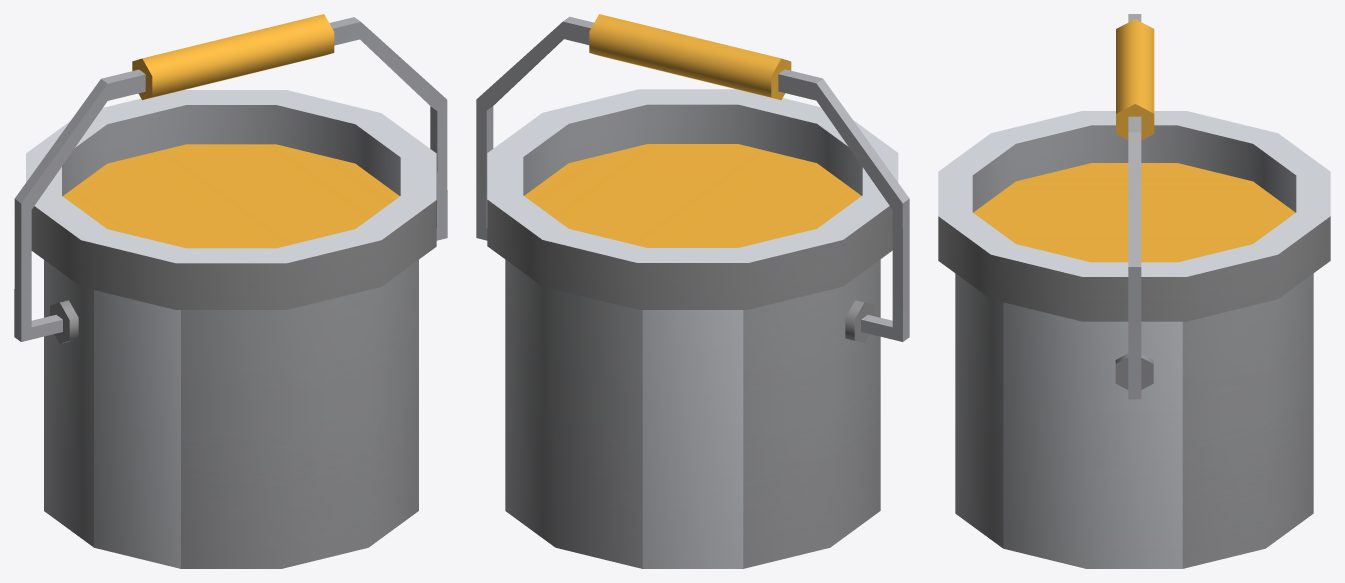
The model's file is SM_Bucket03.fbx.
The picture shows the model from 3 angles, left to right: view 1: azimuth 30°, elevation 25°; view 2: azimuth 150°, elevation 25°; view 3: azimuth 270°, elevation 25°; orthographic projection. The views are drawn at different scales.
Parts seen in each view (by area): view 1: SM_Bucket03; view 2: SM_Bucket03; view 3: SM_Bucket03.
Boxes of the visible parts, <box> form: SM_Bucket03: <box>14,14,447,568</box>; SM_Bucket03: <box>476,14,909,568</box>; SM_Bucket03: <box>938,14,1330,568</box>.
Size of the model in its own units: 27.69 by 28.1 by 23.09.
